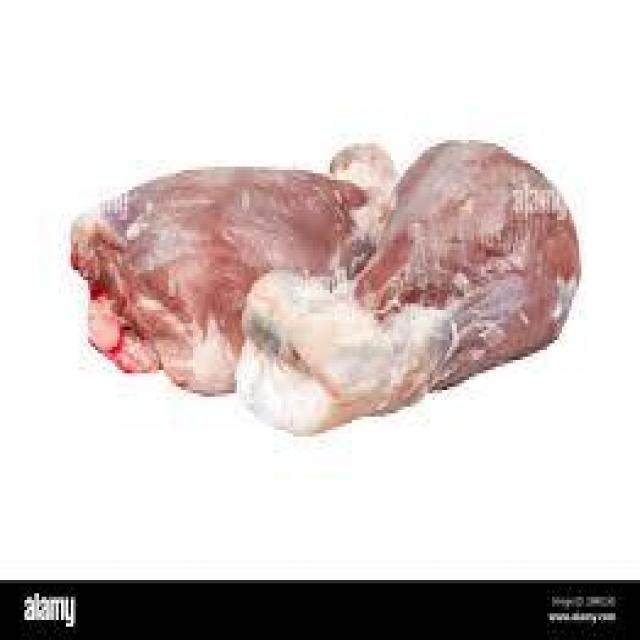Beef: (64, 140, 315, 384)
